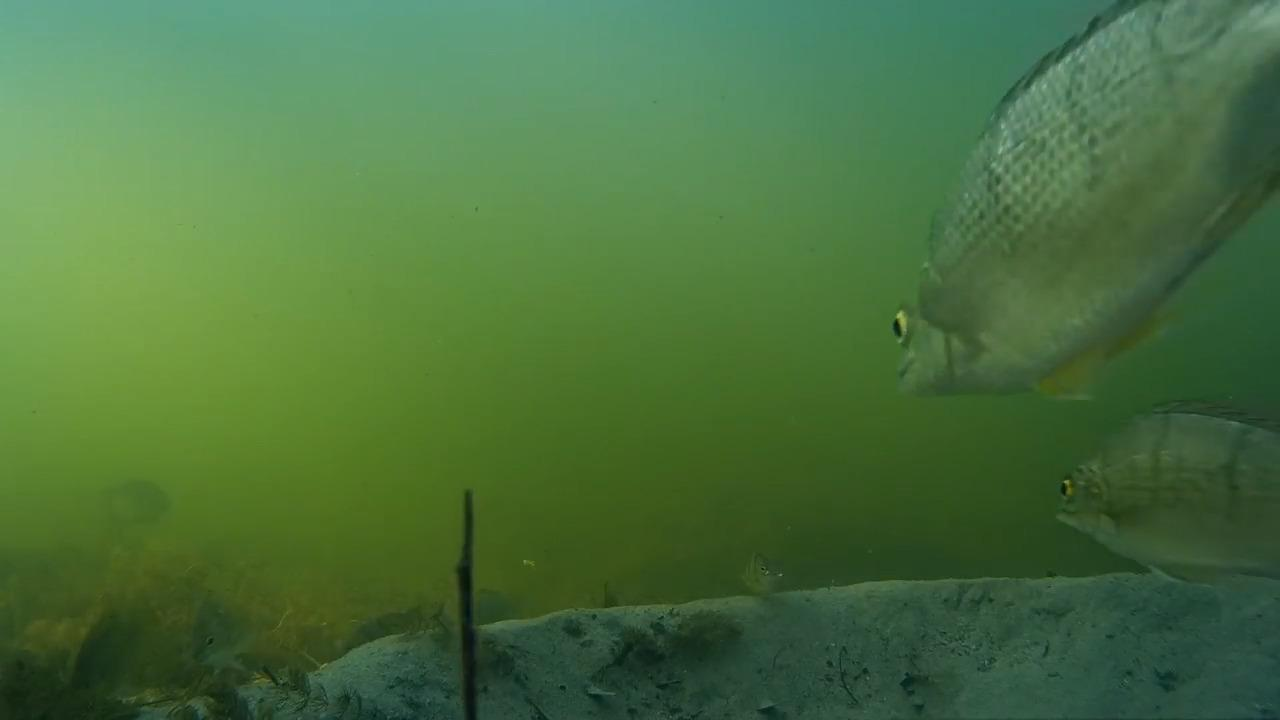Tilapia: (912, 12, 1280, 445), (1050, 400, 1280, 587)
